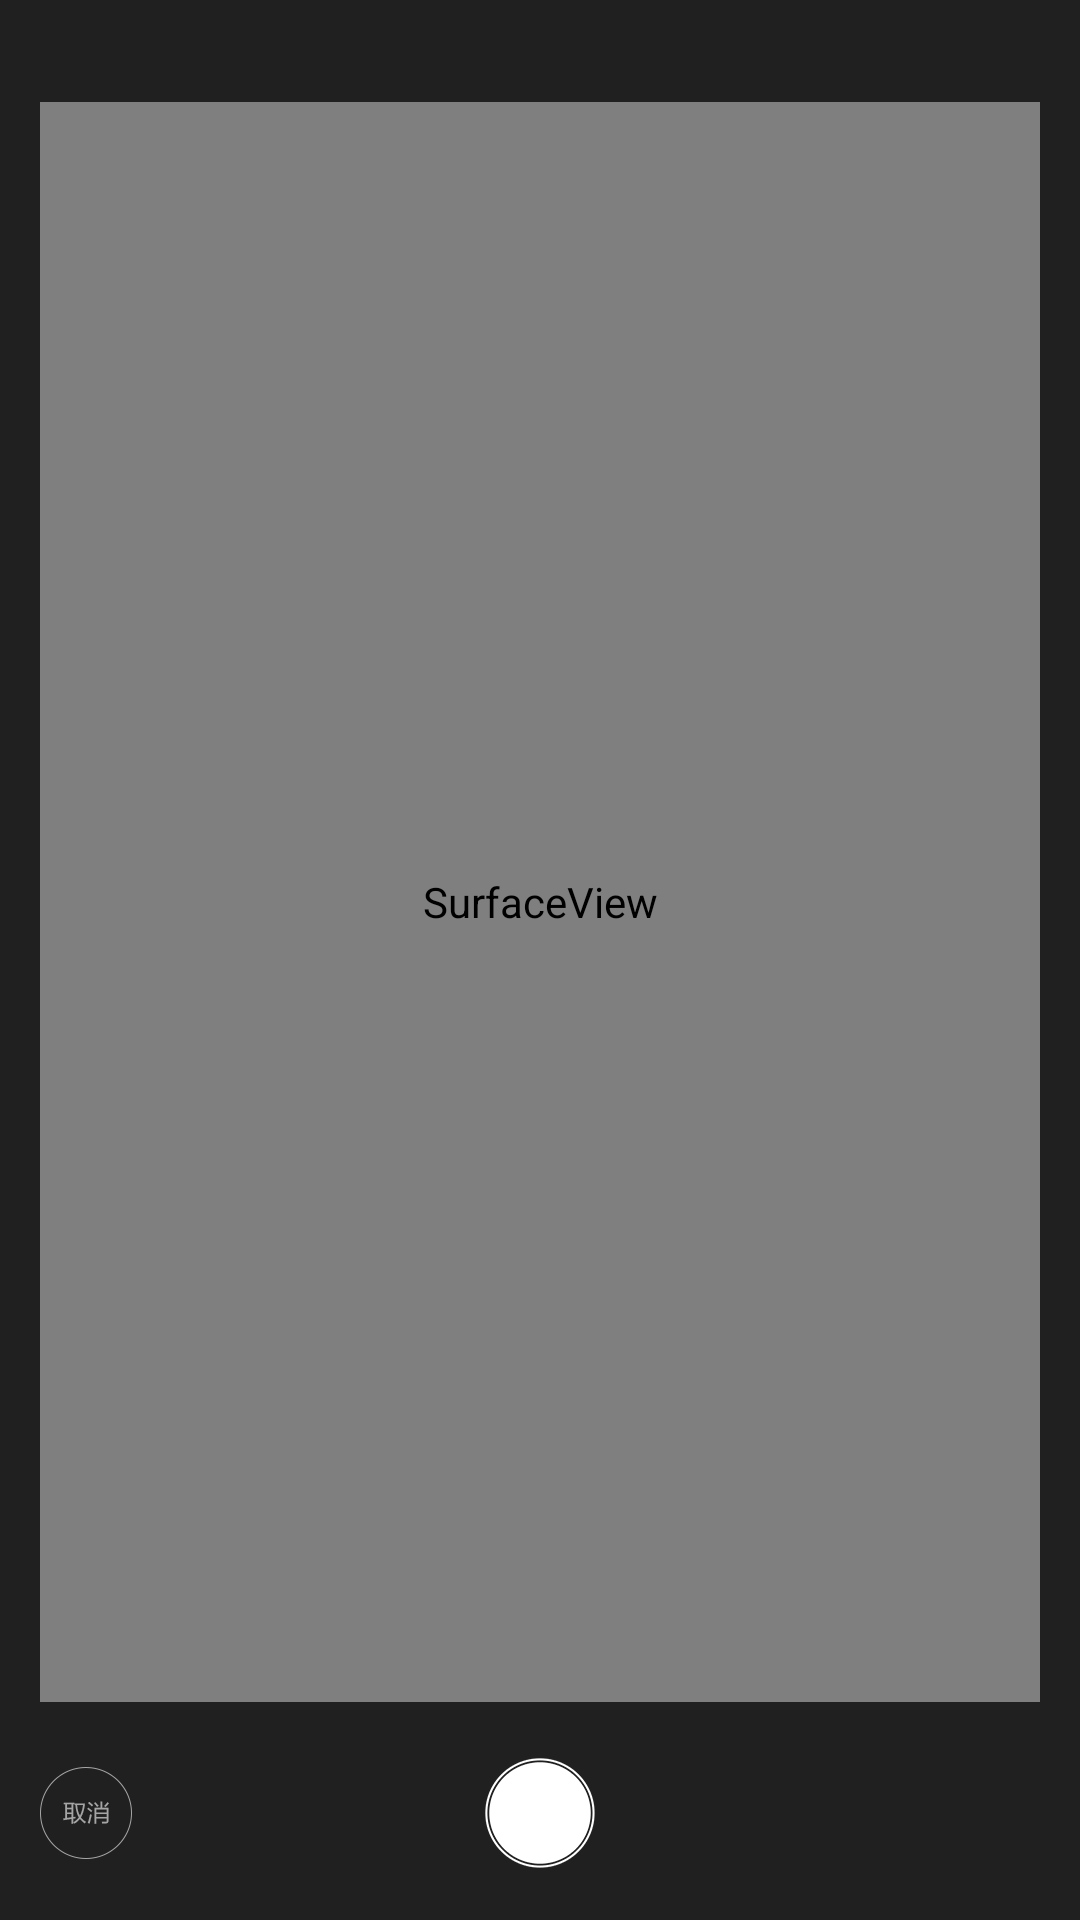

Icon bounding boxes for this 1080w x 1920h phone screenshot, format bbox=[x1, y1, x2, y2]:
take pic: bbox=[485, 1758, 595, 1868]
